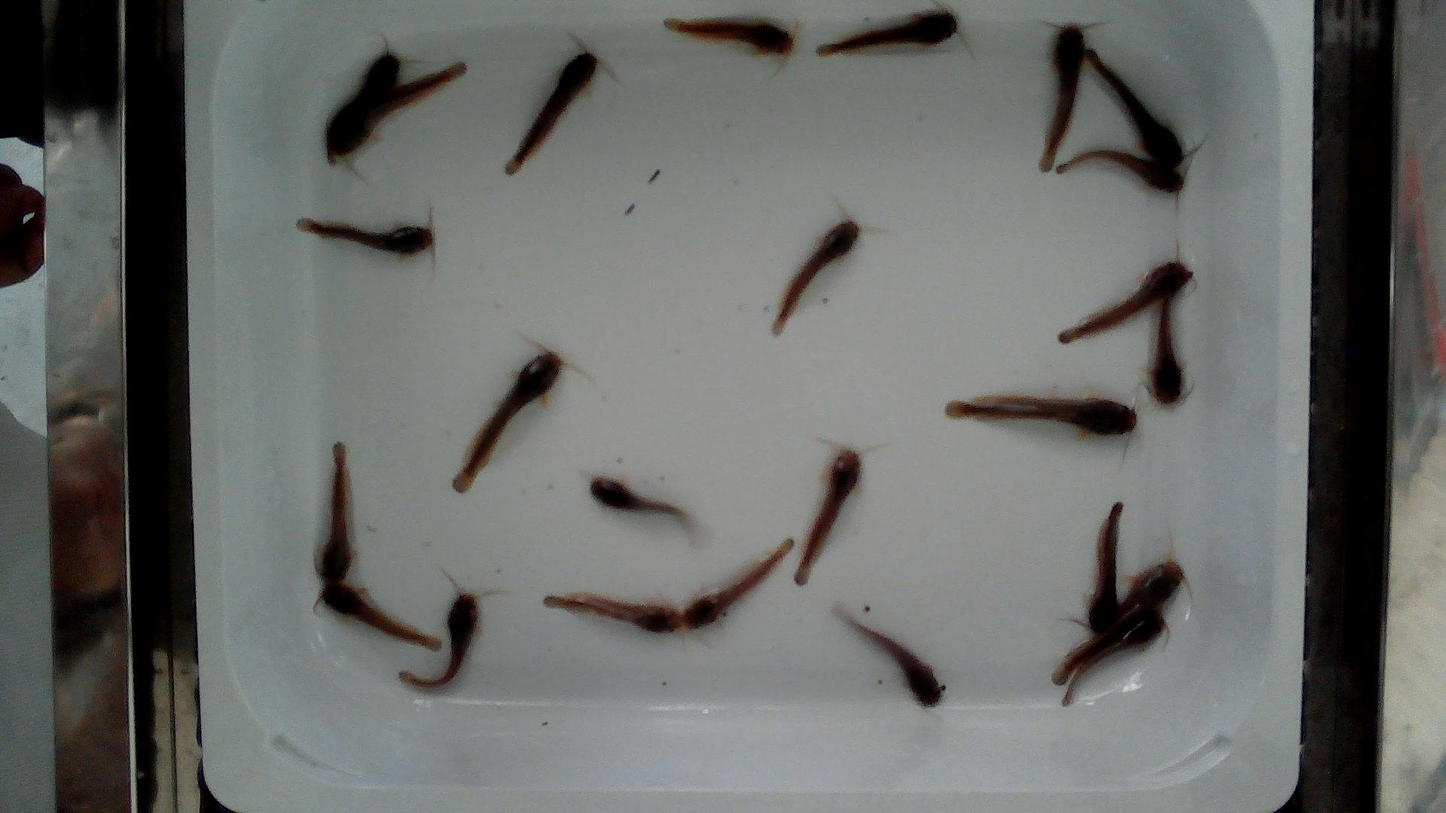lele: (1048, 560, 1185, 690), (453, 348, 566, 491), (332, 63, 470, 158), (1084, 54, 1186, 172), (674, 537, 796, 633), (1053, 262, 1190, 343), (505, 53, 598, 172), (837, 607, 945, 706), (772, 218, 860, 335), (1062, 613, 1164, 707), (795, 448, 861, 585), (324, 581, 444, 651), (326, 56, 402, 160), (945, 394, 1136, 435), (400, 593, 478, 687), (1041, 28, 1086, 173), (542, 592, 681, 638), (817, 11, 956, 55), (1058, 148, 1186, 194), (316, 442, 352, 585), (297, 218, 432, 254), (1088, 503, 1123, 632), (665, 20, 793, 55), (590, 477, 686, 517), (1152, 300, 1185, 404)
